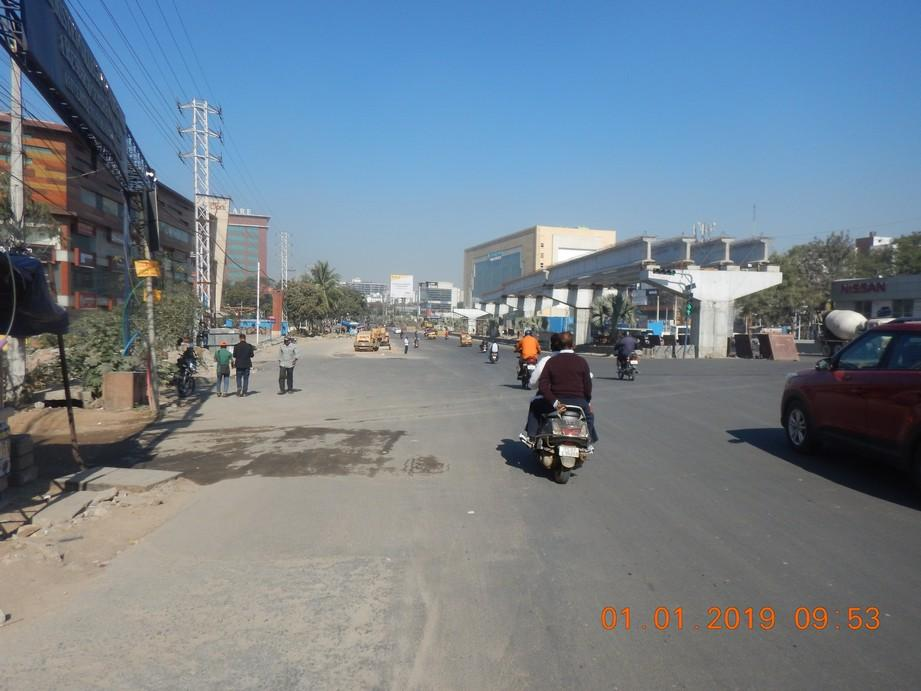plate: (557, 441, 581, 460)
